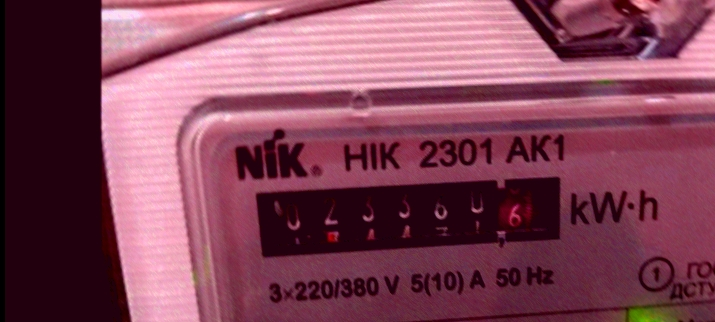0: (282, 197, 304, 231), (465, 184, 487, 215)
2: (321, 192, 341, 226)
3: (395, 186, 414, 219), (357, 192, 376, 223)
6: (430, 188, 451, 221), (505, 197, 526, 230)
screen: (240, 166, 578, 262)
